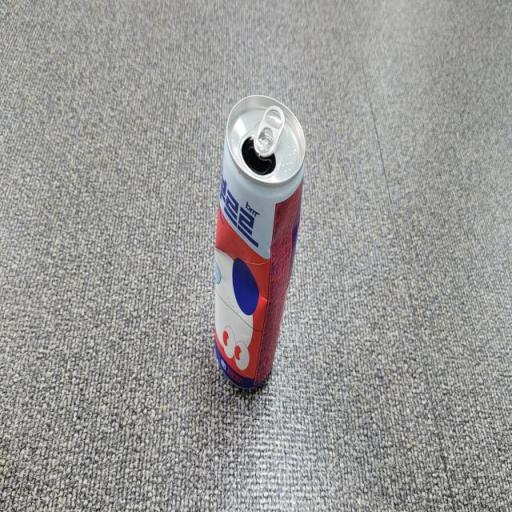metal: (197, 92, 312, 408)
